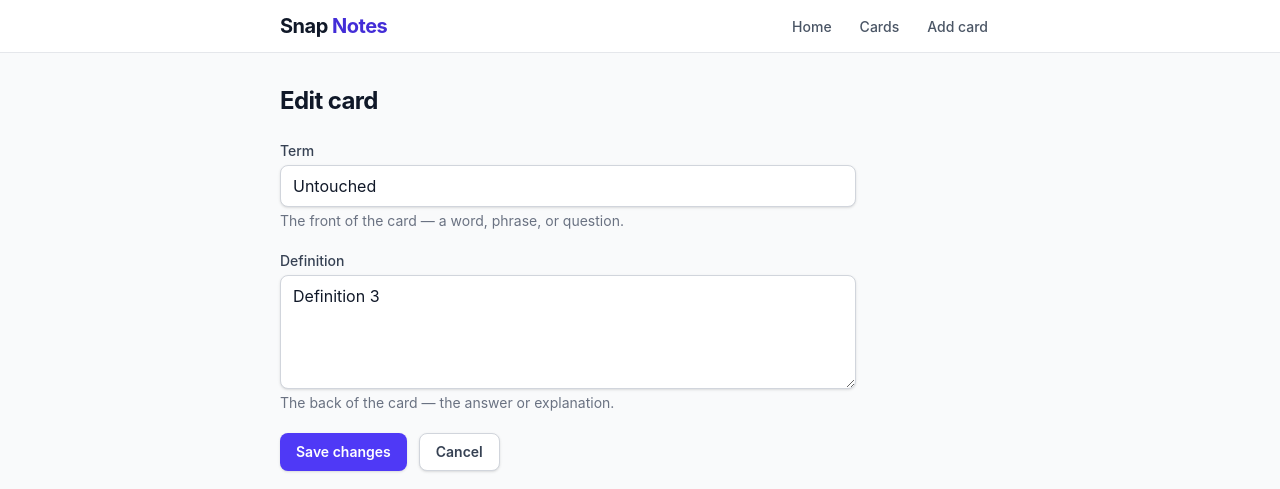
Scenario: CardFormPage › cancel returns to the list from an edit without saving
Click the button "Cancel".
click(459, 452)  # box [419, 433, 500, 471]
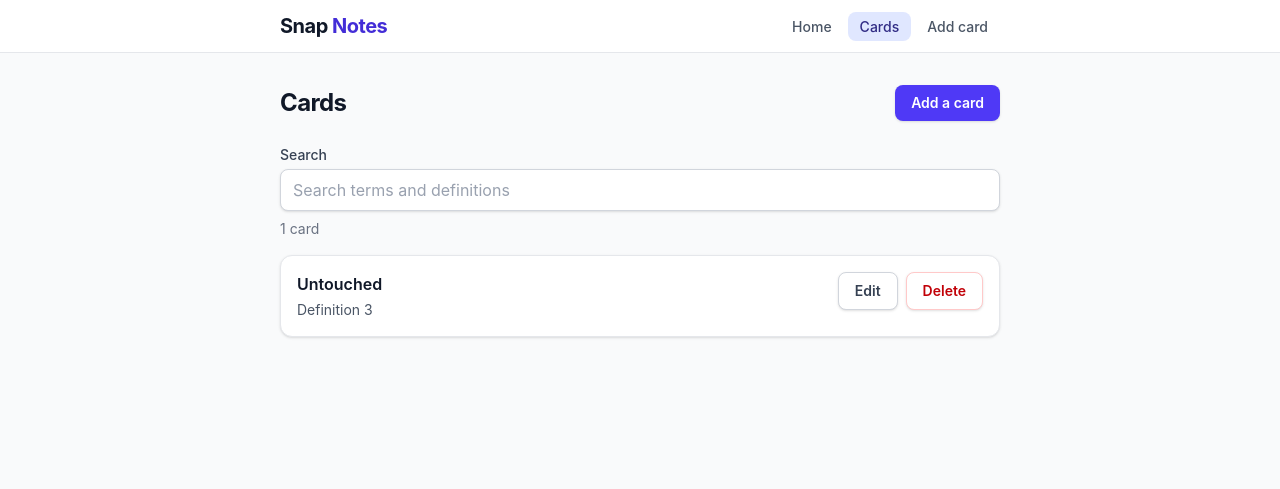
Expected: the heading "Cards" is shown, [280, 87, 346, 119]
